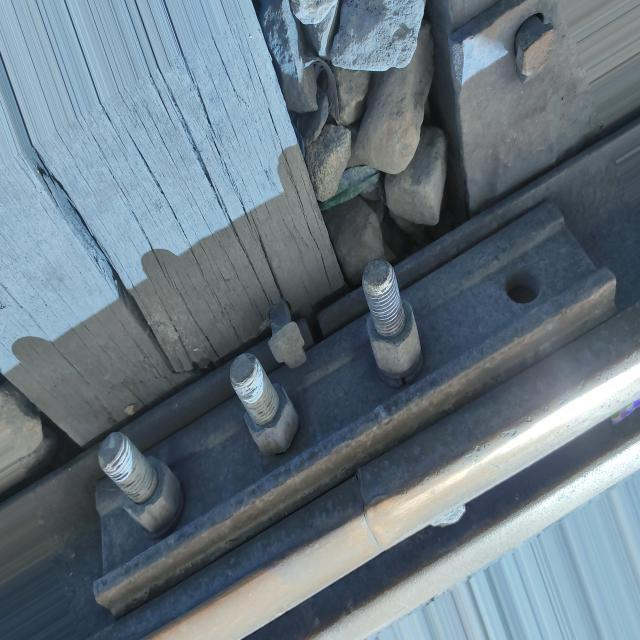Defective Joint: (88, 204, 619, 612)
Good Fasteners: (268, 299, 306, 368)
